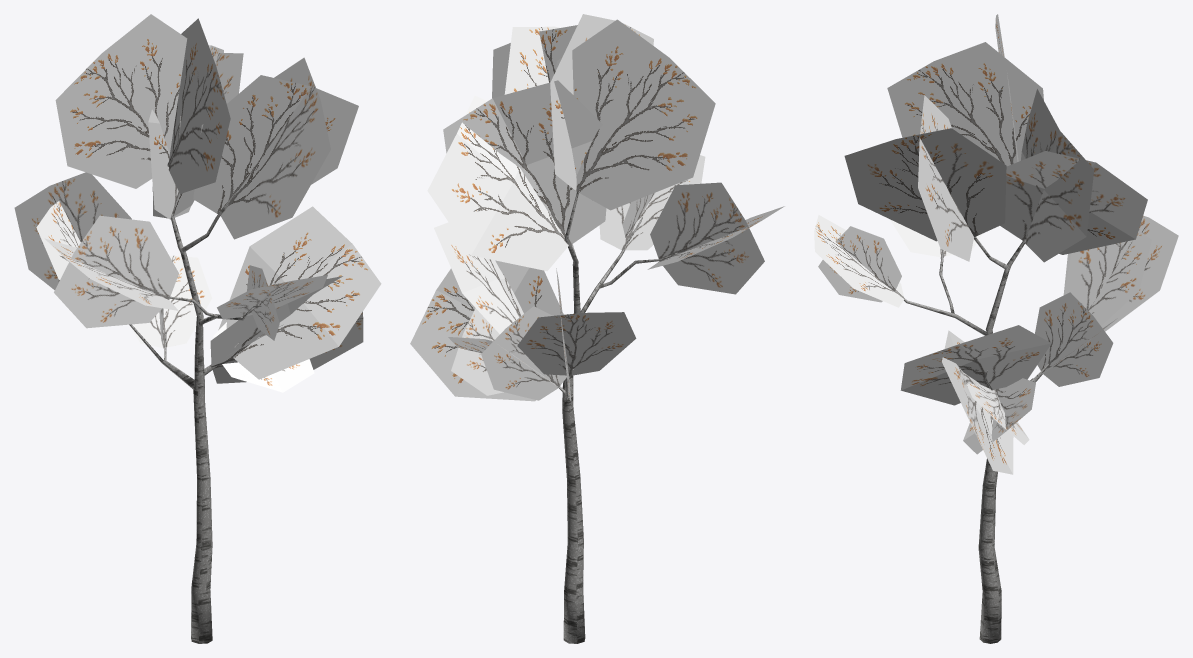
Rendered from TREE_Birch_A_01.fbx.
3 views of the same model, side by side, from view 1: azimuth 30°, elevation 25°; view 2: azimuth 150°, elevation 25°; view 3: azimuth 270°, elevation 25° (orthographic). The views are drawn at different scales.
Visible parts, largest first — view 1: Tree_Birch; view 2: Tree_Birch; view 3: Tree_Birch.
Part boxes in pixels (x1,y1,x2,y2): Tree_Birch: (14,14,381,643); Tree_Birch: (410,14,784,643); Tree_Birch: (814,14,1178,643).
Bounding box in the file's own units: 1099 × 2005 × 1098.
2 materials, 2 textured.
